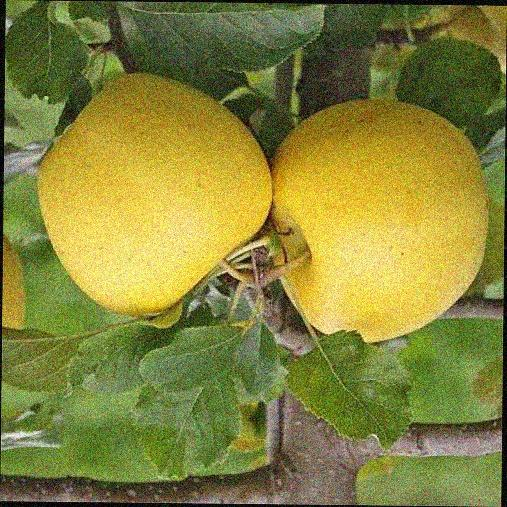green apple: (268, 84, 492, 343), (35, 74, 267, 323)
